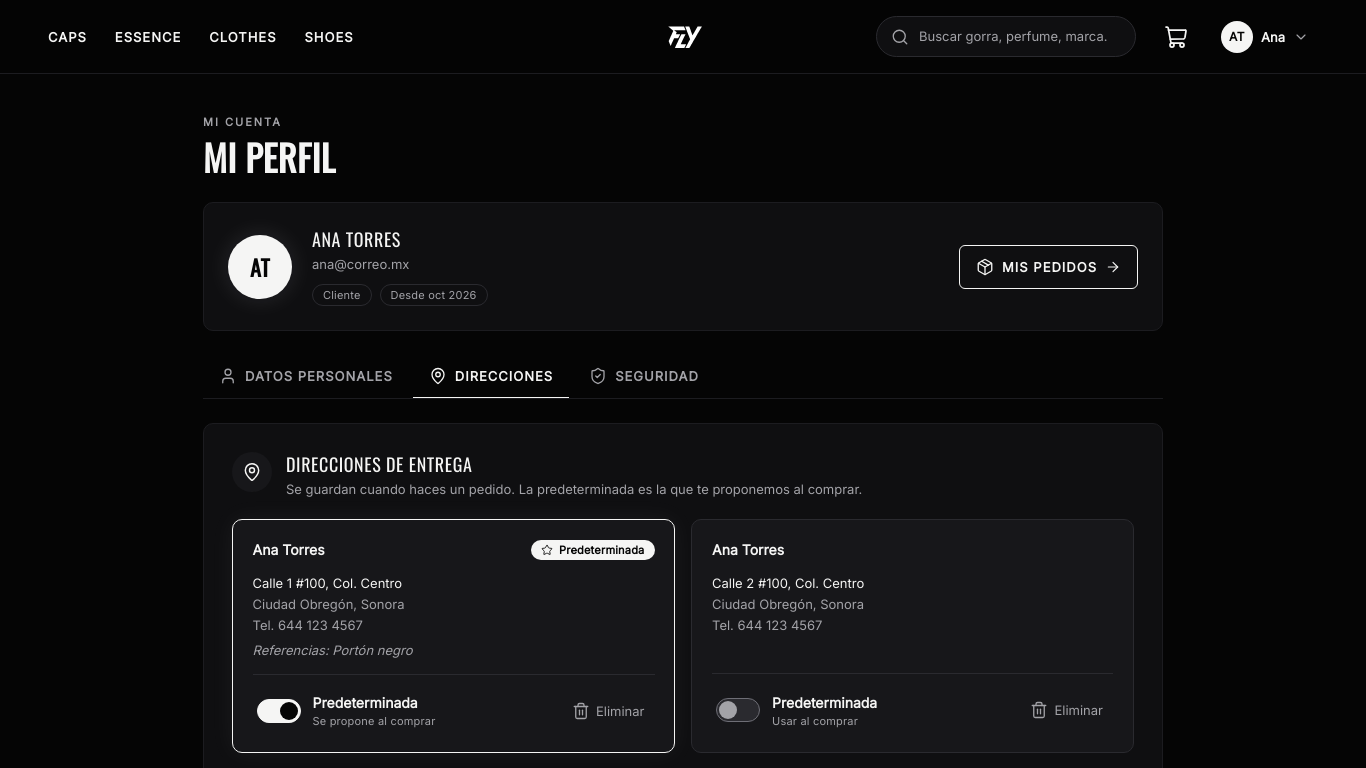
Mi perfil › Direcciones: el interruptor cambia la predeterminada y eliminar pide confirmación
Later steps or results of the test are not shown.
Click the switch labelled "Predeterminada Usar al comprar" at (799, 710), box x1=712 y1=688 x2=885 y2=732
(page scrolled)
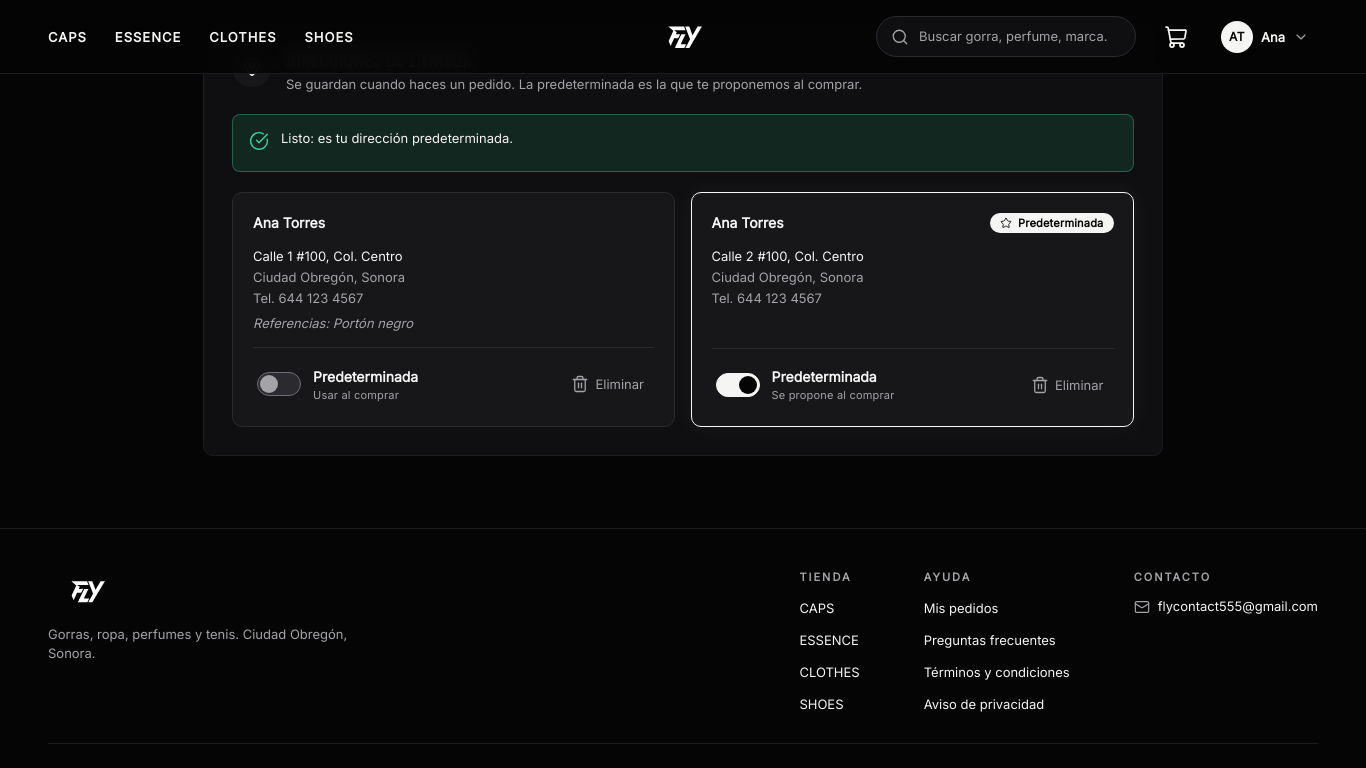
Now the text "Listo: es tu dirección predeterminada." is shown, box x1=281 y1=130 x2=513 y2=146
